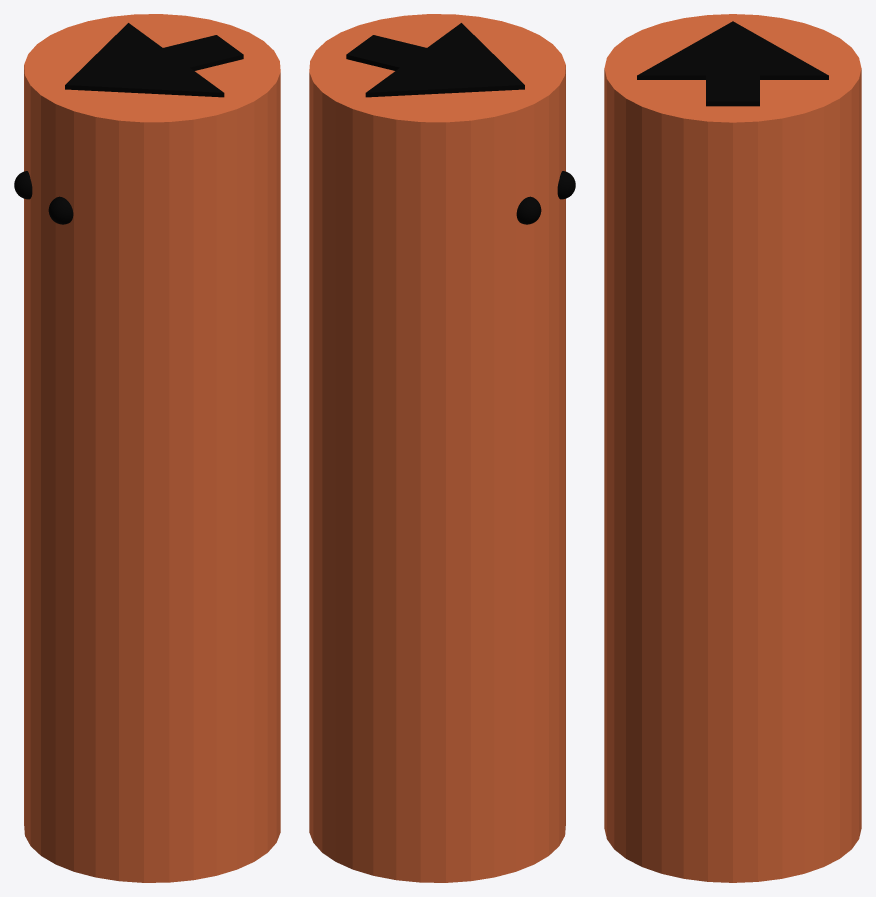
Rendered from cbeige.obj.
The picture shows the model from 3 angles, left to right: view 1: azimuth 30°, elevation 25°; view 2: azimuth 150°, elevation 25°; view 3: azimuth 270°, elevation 25°; orthographic projection.
Parts seen in each view (by area): view 1: Cylinder.001; view 2: Cylinder.001; view 3: Cylinder.001.
Boxes of the visible parts, x1,y1,x2,y2 form: Cylinder.001: [14, 14, 280, 882]; Cylinder.001: [309, 14, 575, 882]; Cylinder.001: [604, 14, 861, 882].
Size of the model in its own units: 0.1612 by 0.5117 by 0.1559.
